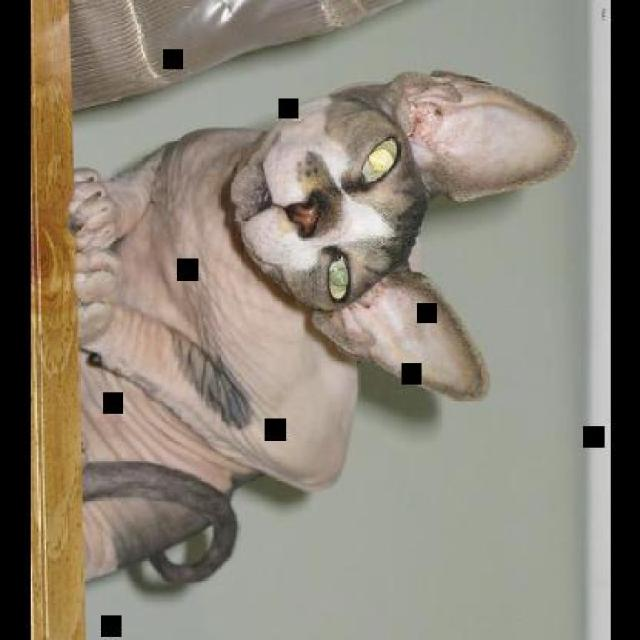unauthorized: (68, 68, 577, 584)
